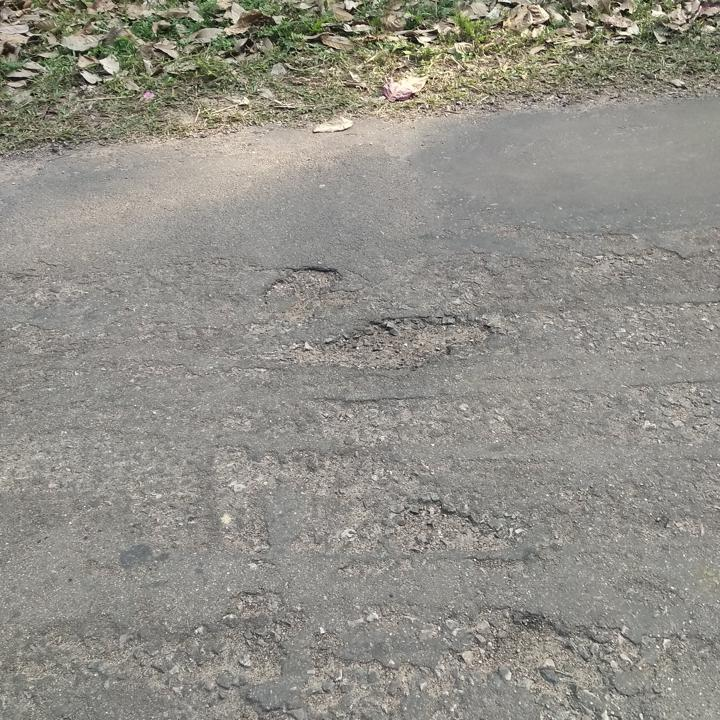pothole: (309, 313, 496, 369), (470, 607, 584, 692), (385, 496, 508, 555), (201, 629, 290, 683), (261, 262, 343, 306)
